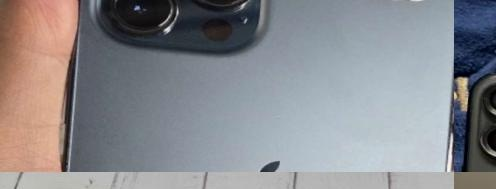scratch: (485, 76, 496, 91)
